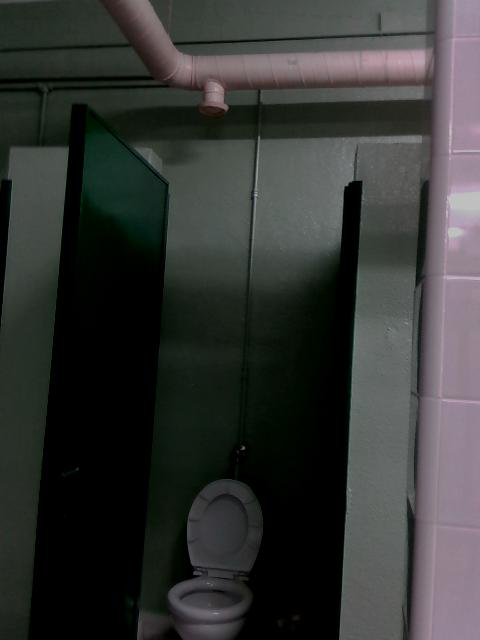open_door: (119, 176, 366, 639)
